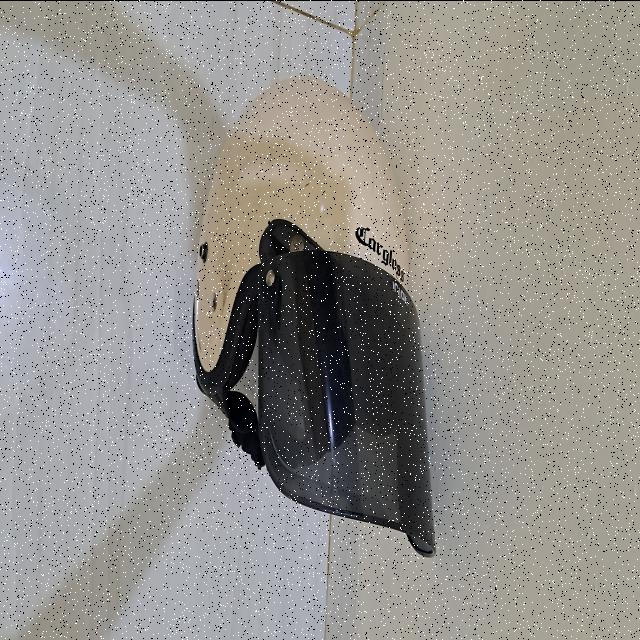Helmet: (191, 75, 432, 553)
